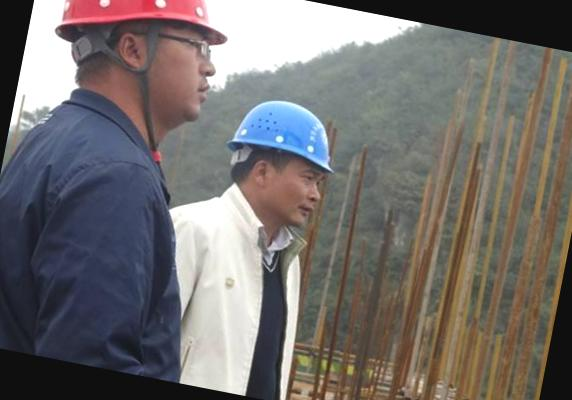helmet: (36, 0, 239, 70), (227, 92, 340, 172)
no_vest: (0, 62, 217, 373), (156, 185, 322, 400)
person: (0, 0, 248, 382), (136, 75, 344, 400)
